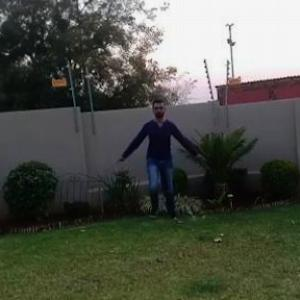land: (112, 96, 209, 223)
